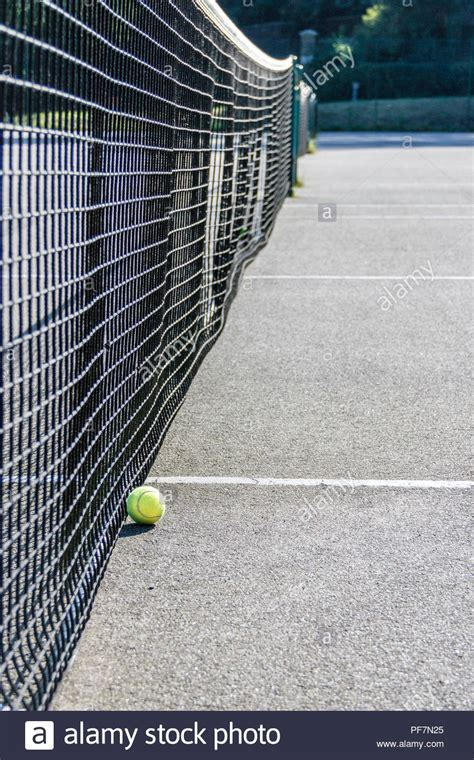tennis_ball: (126, 485, 165, 526)
